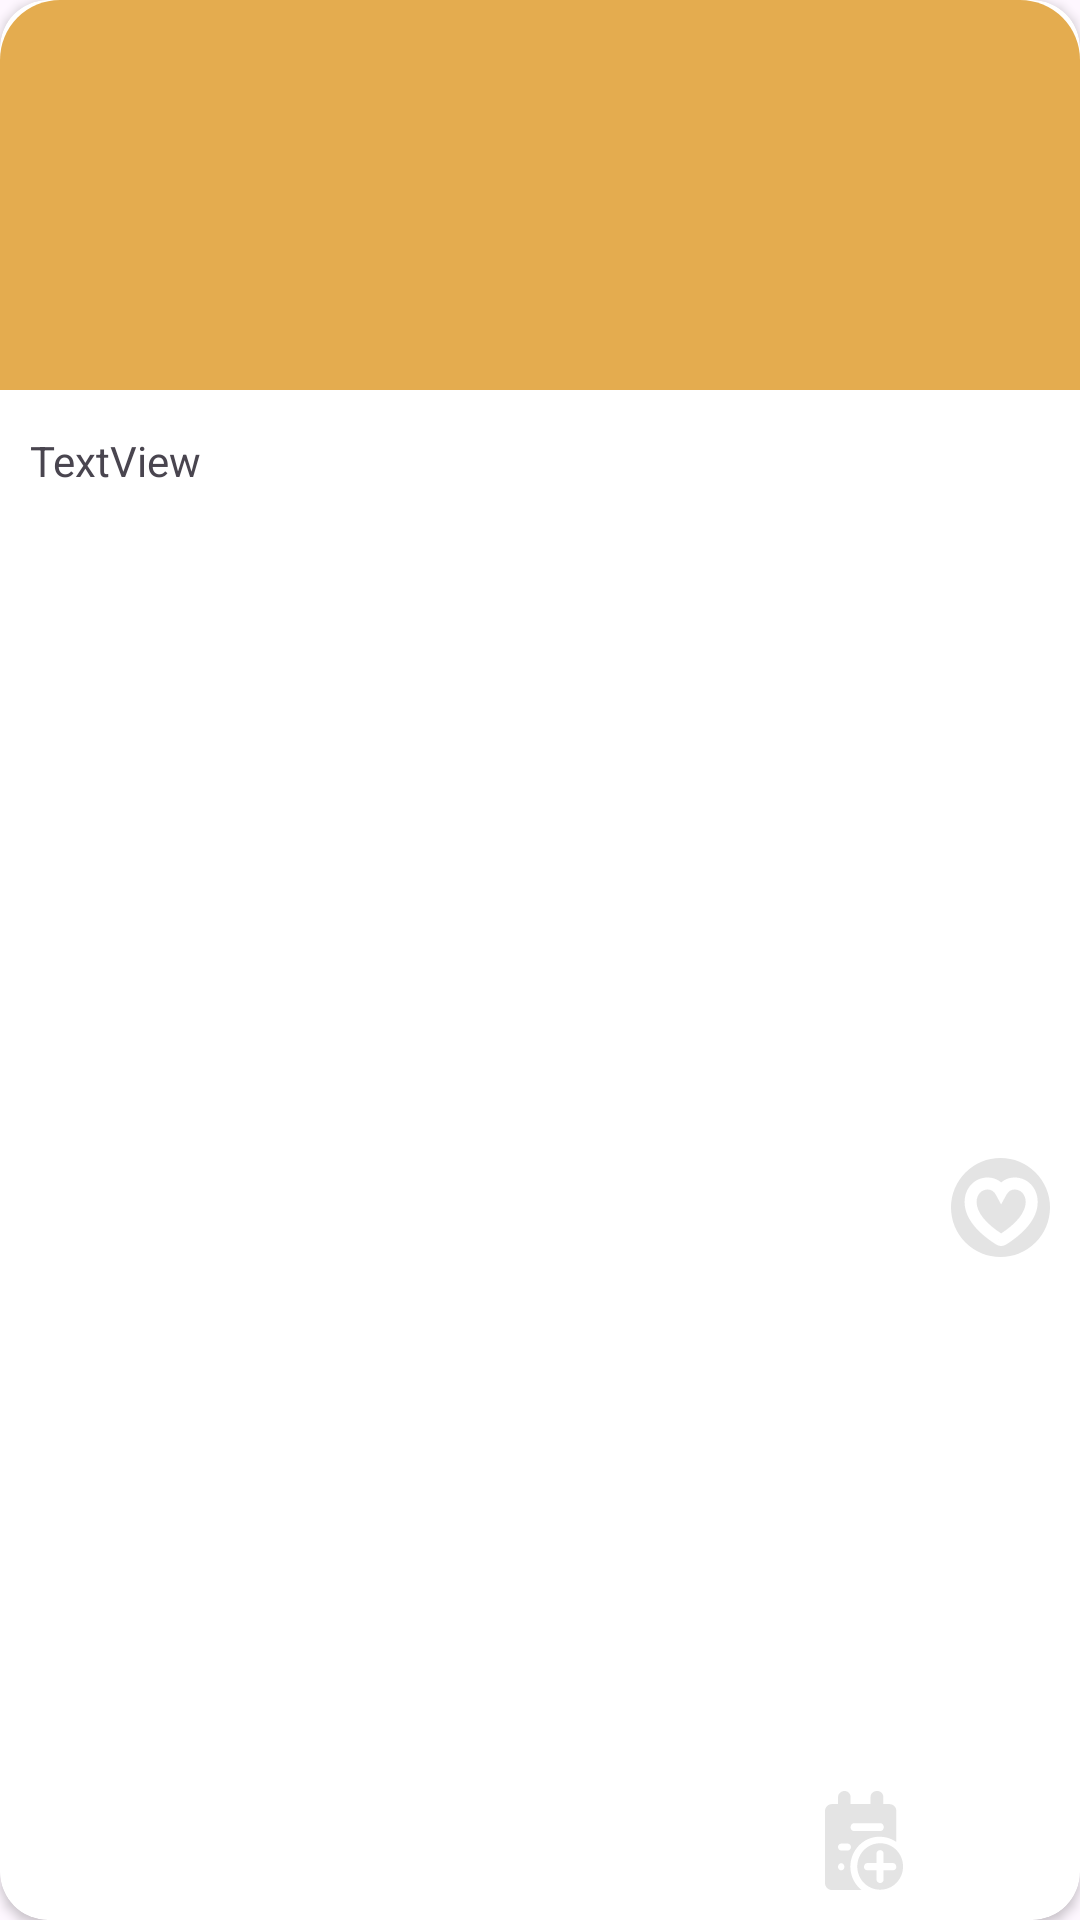

Locate icon controls on the screen. Image size 1080*1920, boxes as (x1, y1, x2, y2).
add plan: (825, 1791, 903, 1890)
add to fav: (951, 1158, 1050, 1257)
